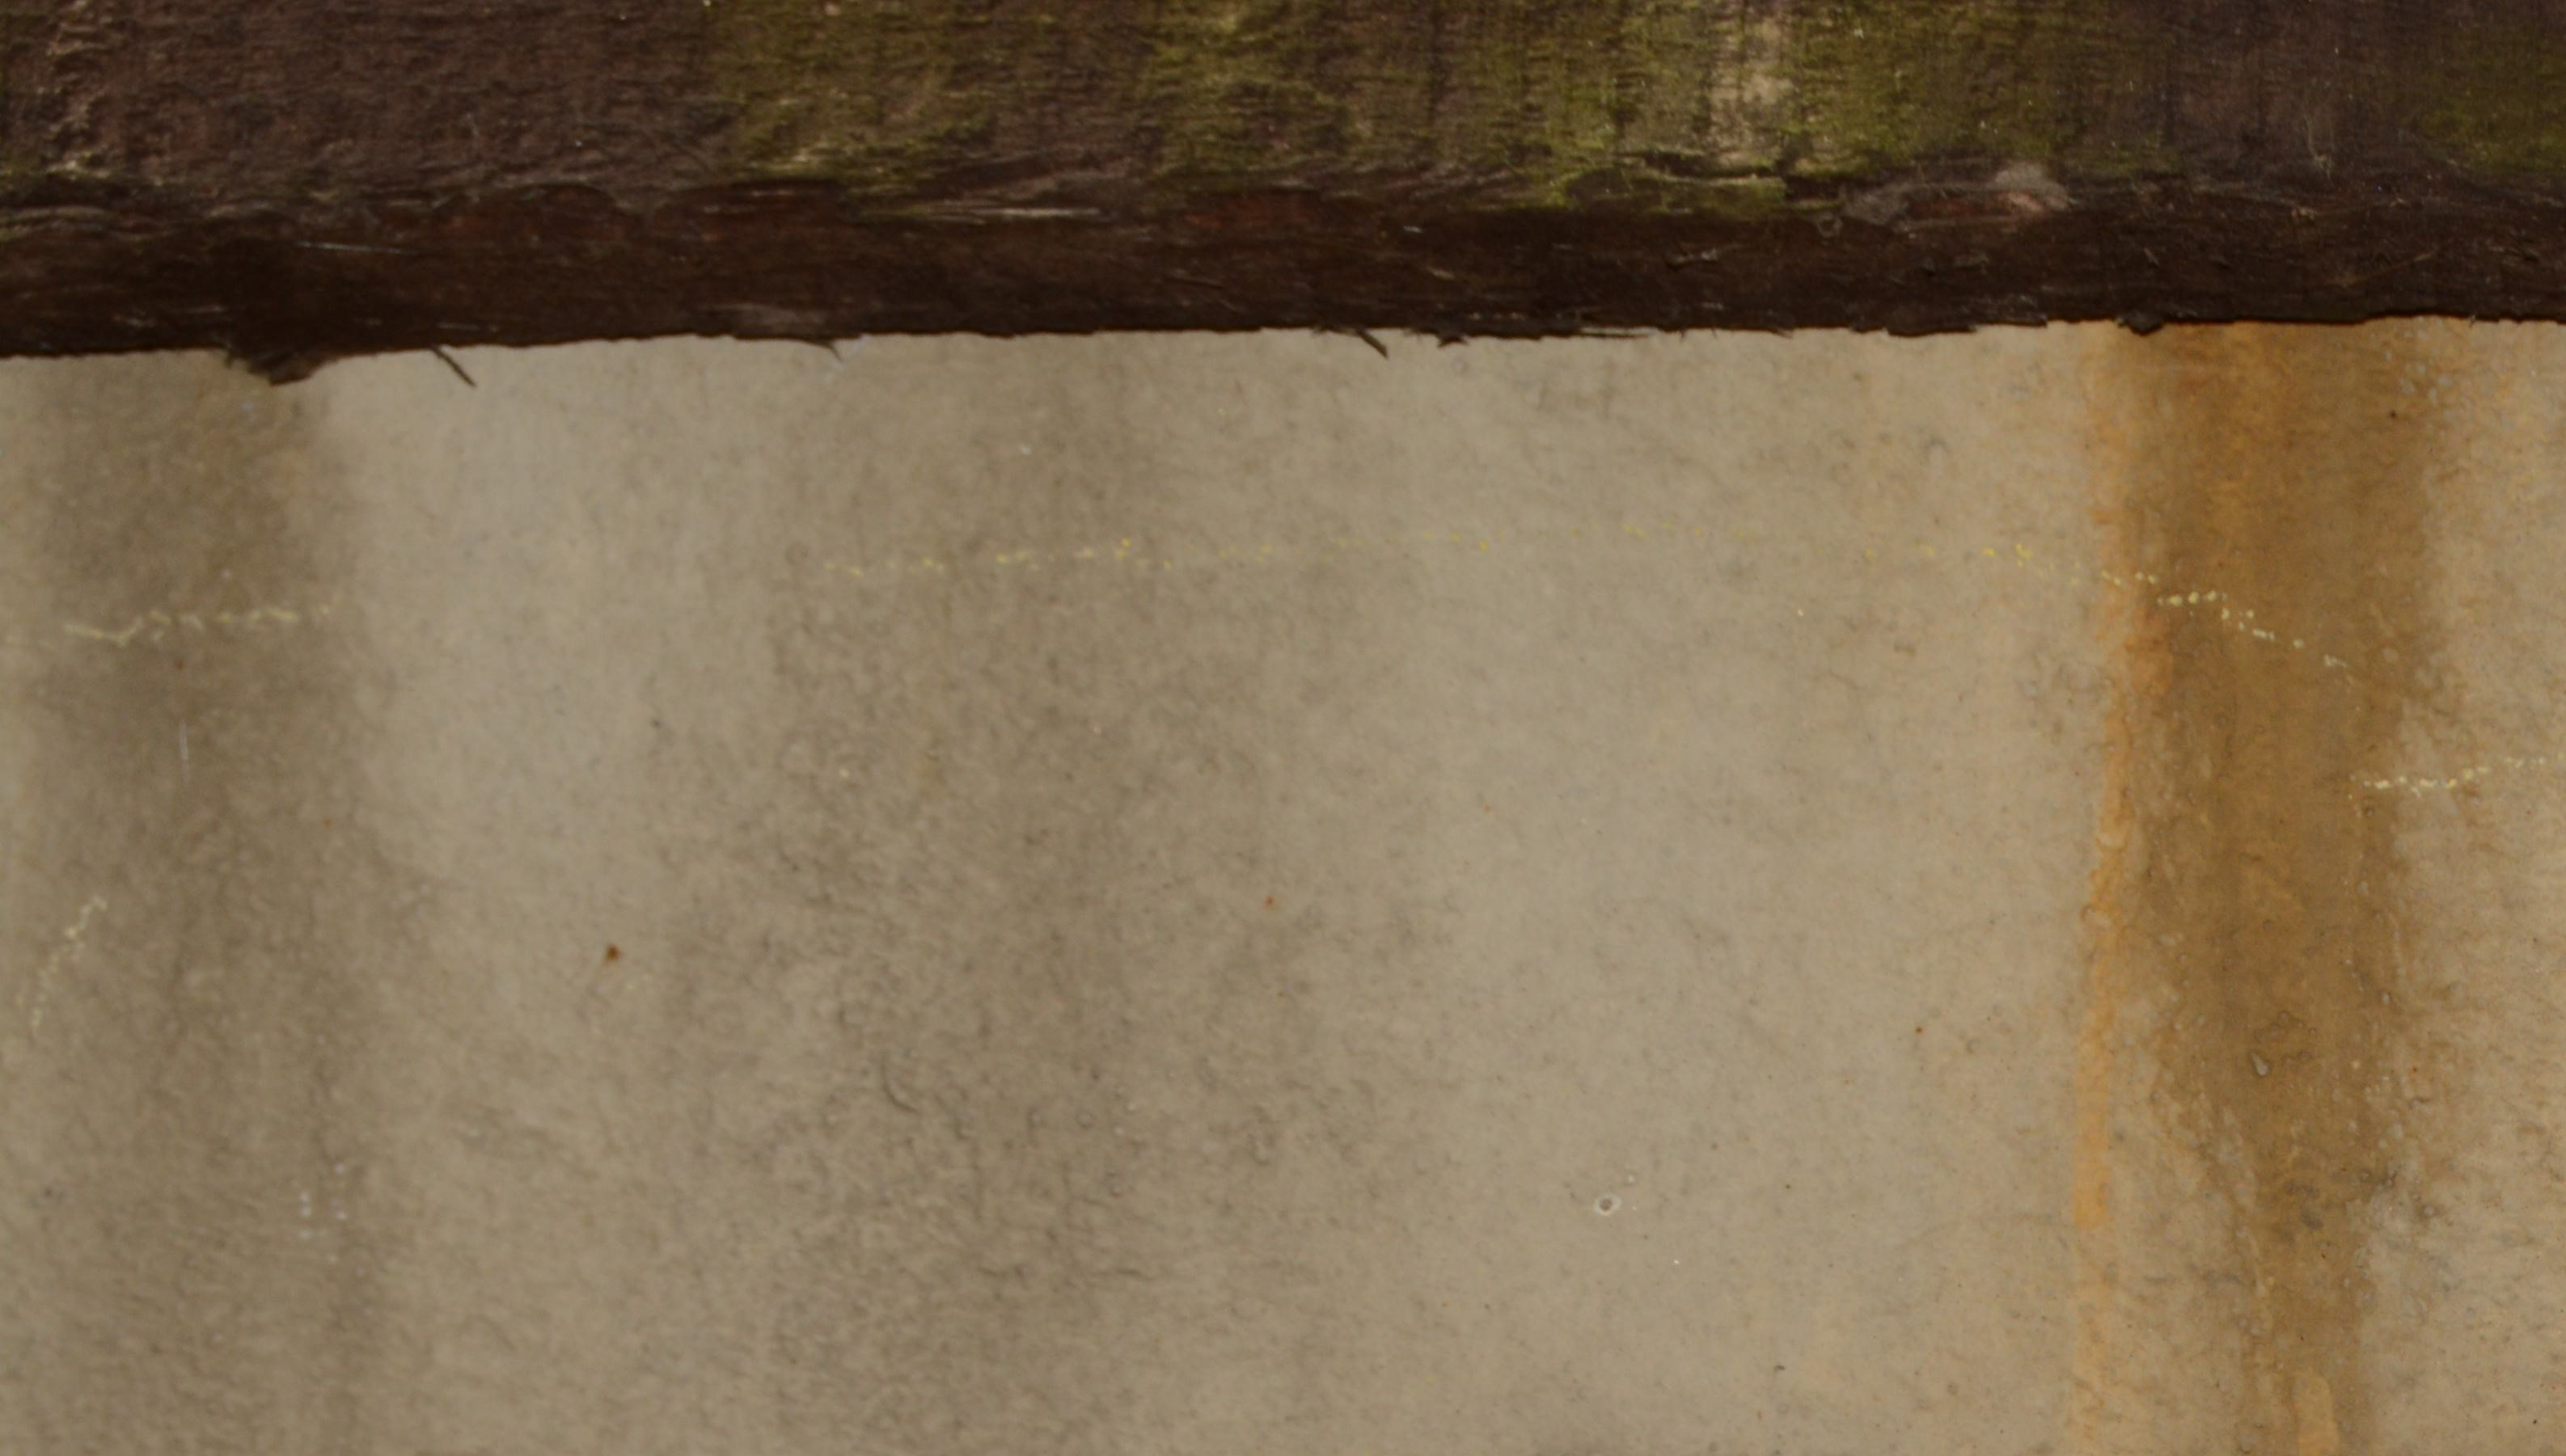Corrosion: (2062, 323, 2457, 1456)
